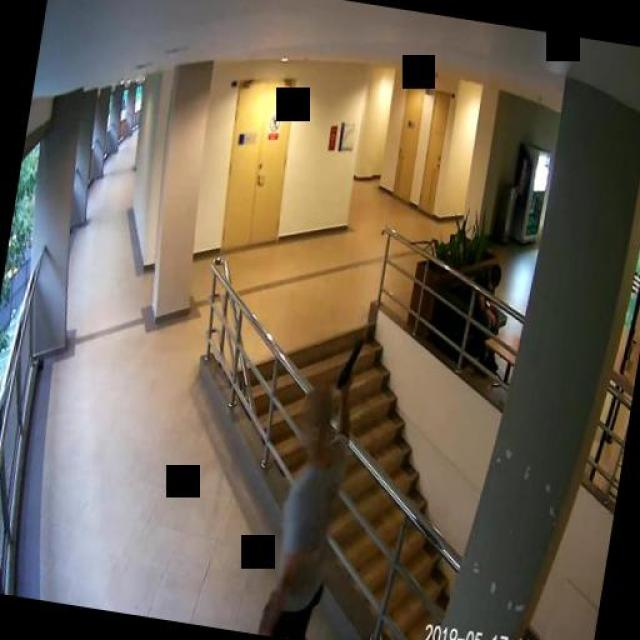gun: (338, 334, 362, 385)
